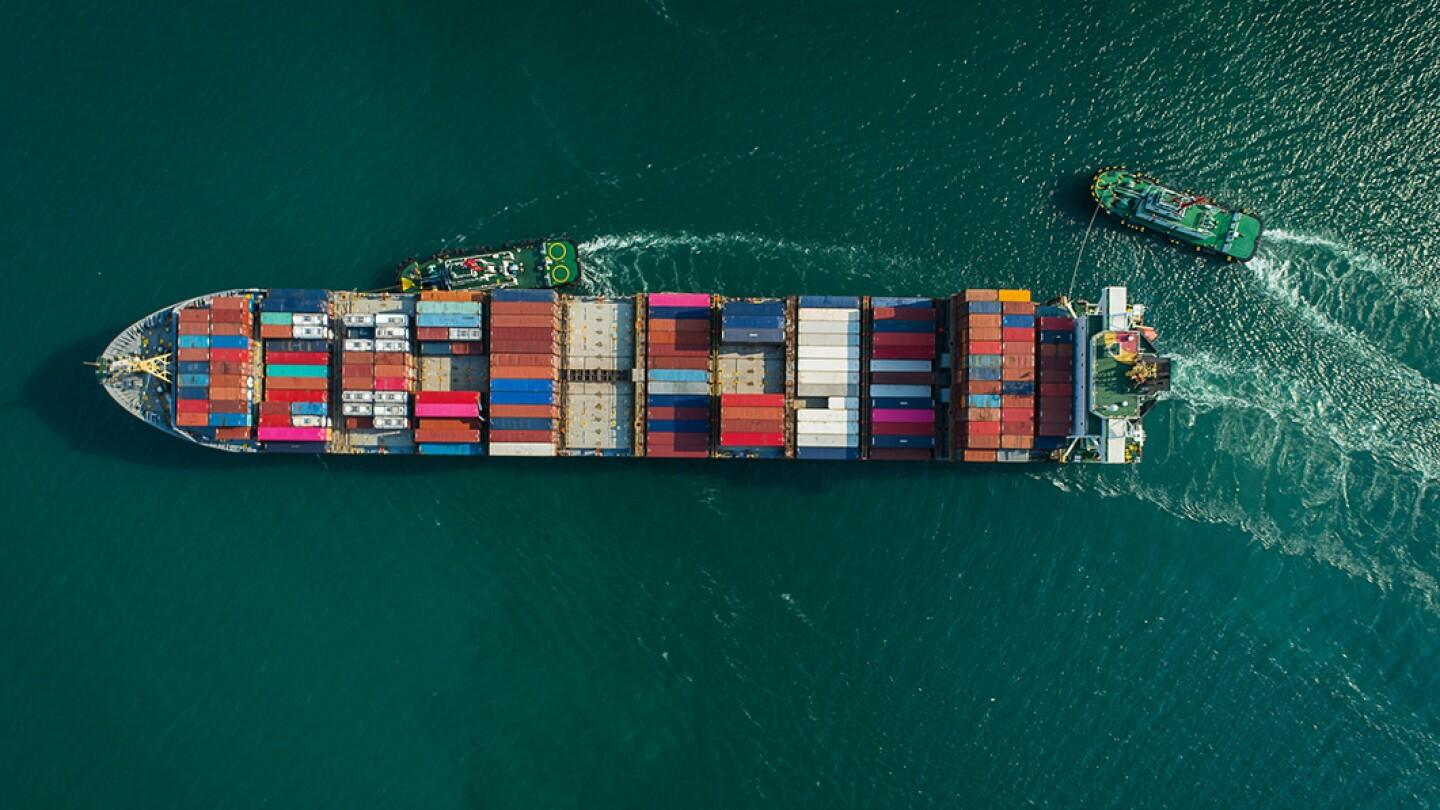Ship: (82, 296, 1166, 478), (1088, 155, 1264, 267), (383, 245, 594, 292)
